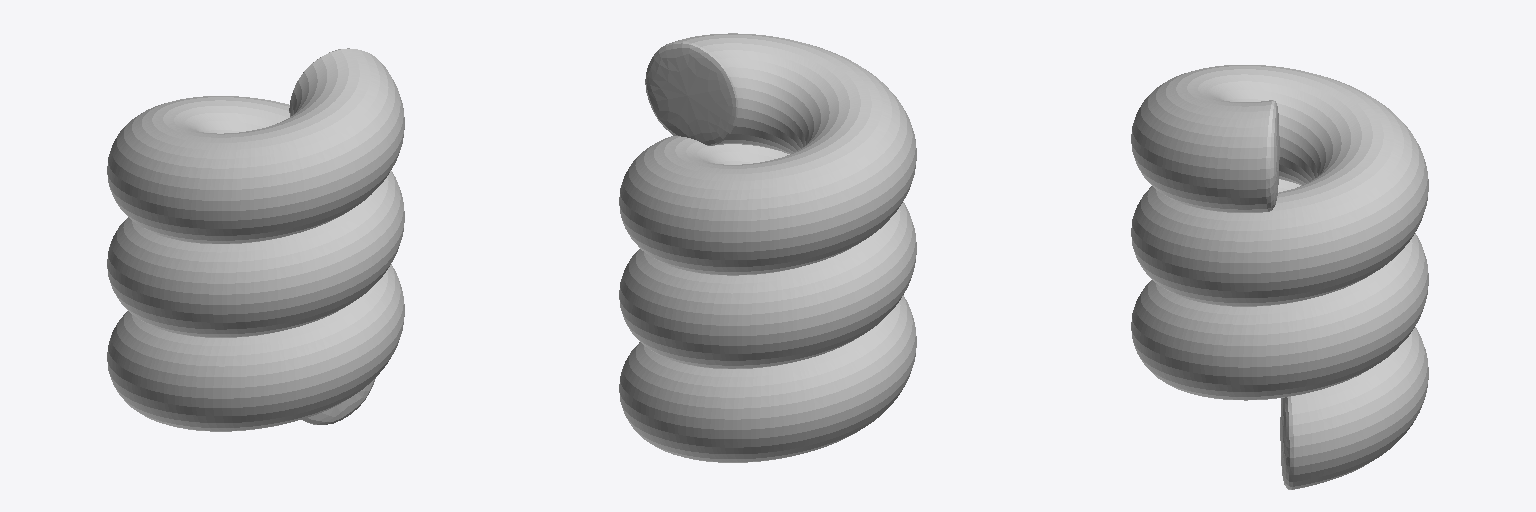
The model's file is helix_30.0.obj.
The picture shows the model from 3 angles: view 1: azimuth 30°, elevation 25°; view 2: azimuth 150°, elevation 25°; view 3: azimuth 270°, elevation 25°; orthographic projection.
Visible parts, largest first — view 1: helix:pHelix1; view 2: helix:pHelix1; view 3: helix:pHelix1.
Part boxes in pixels (x1,y1,x2,y2): helix:pHelix1: (107,48,404,431); helix:pHelix1: (619,33,916,462); helix:pHelix1: (1131,65,1428,489).
Bounding box in the file's own units: 1.92 × 2.71 × 1.92.